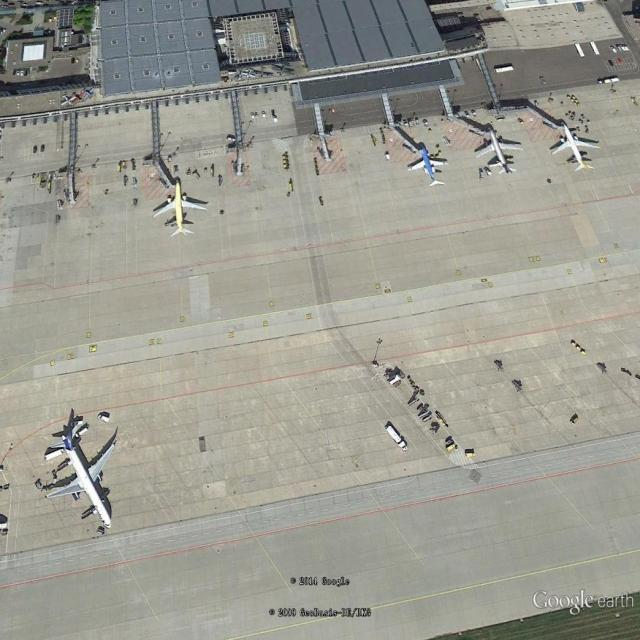aircraft: (41, 420, 120, 534), (151, 175, 211, 238), (549, 122, 606, 175), (472, 127, 527, 177), (407, 145, 453, 191), (60, 94, 78, 110)
